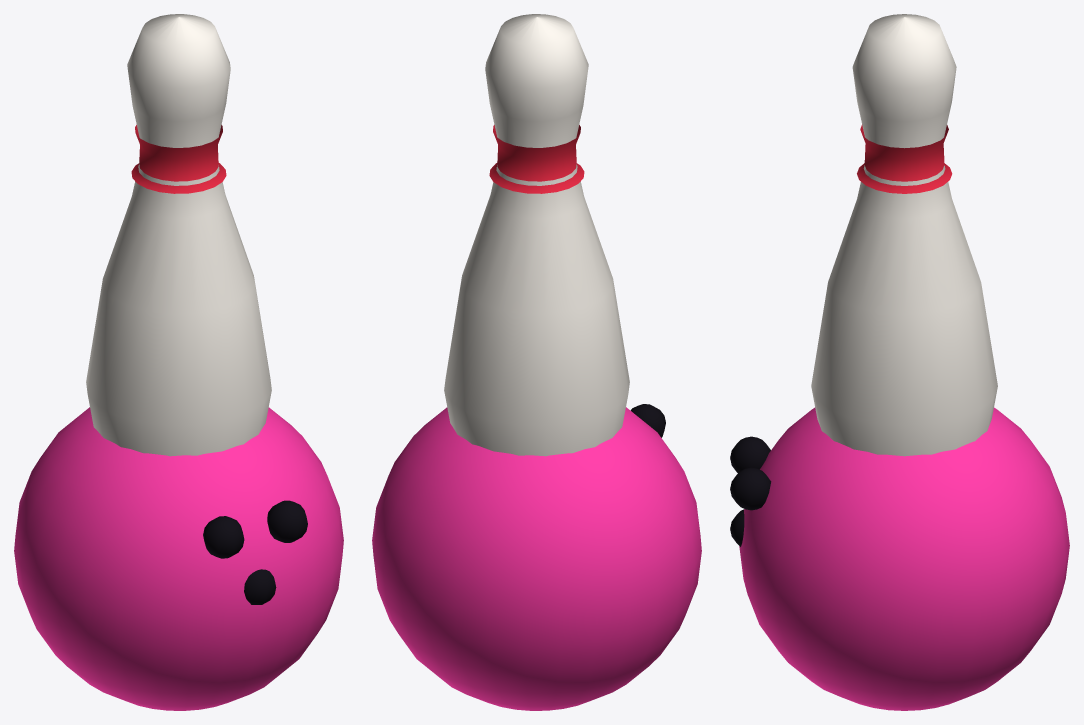
File: bowling-props.glb
3 renders of one model, left to right at view 1: azimuth 30°, elevation 25°; view 2: azimuth 150°, elevation 25°; view 3: azimuth 270°, elevation 25°, orthographic.
Parts seen in each view (by area): view 1: ball, pin, lathe, Sphere, Sphere.001, Sphere.002; view 2: ball, pin, lathe, Sphere; view 3: ball, pin, lathe, Sphere.001, Sphere.
Boxes of the visible parts, x1,y1,x2,y2 form: ball: [14, 407, 343, 710]; pin: [86, 14, 271, 456]; lathe: [131, 125, 226, 193]; Sphere: [203, 516, 244, 558]; Sphere.001: [267, 500, 307, 542]; Sphere.002: [244, 569, 276, 604]; ball: [372, 407, 701, 710]; pin: [444, 14, 629, 456]; lathe: [489, 125, 584, 193]; Sphere: [630, 404, 665, 437]; ball: [739, 407, 1069, 710]; pin: [811, 14, 997, 456]; lathe: [857, 124, 952, 193]; Sphere.001: [730, 467, 771, 510]; Sphere: [730, 436, 770, 472].
Size of the model in its own units: 0.216 by 0.489 by 0.222.
